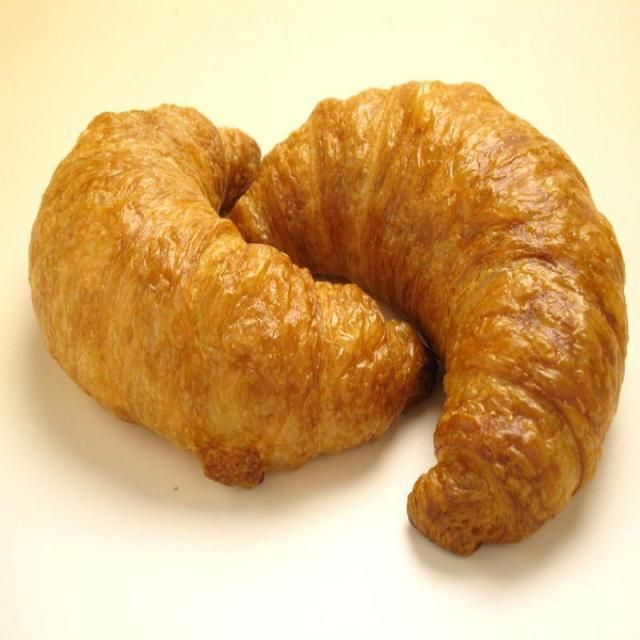Croissant: (221, 56, 640, 570)
